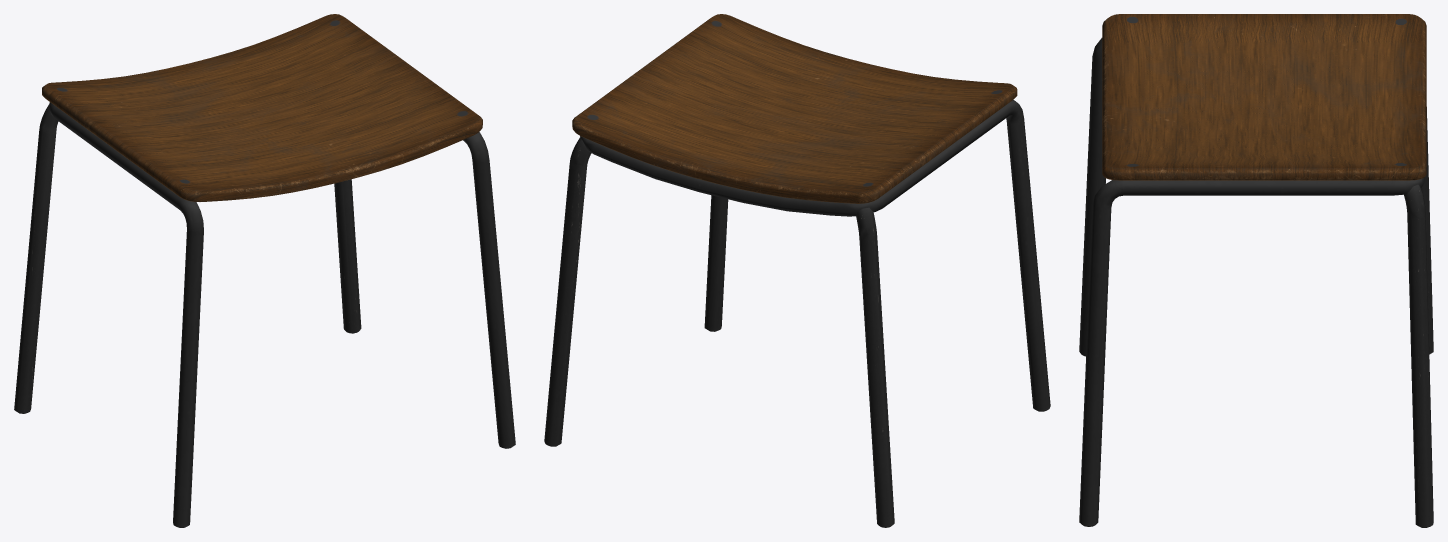
Rendered from old_stool.obj.
The picture shows the model from 3 angles, left to right: view 1: azimuth 30°, elevation 25°; view 2: azimuth 150°, elevation 25°; view 3: azimuth 270°, elevation 25°; orthographic projection. The views are drawn at different scales.
Visible parts, largest first — view 1: old_stool; view 2: old_stool; view 3: old_stool.
Boxes of the visible parts, x1=… form: old_stool: x1=14, y1=14, x2=515, y2=527; old_stool: x1=544, y1=14, x2=1050, y2=527; old_stool: x1=1079, y1=14, x2=1433, y2=527.
Bounding box in the file's own units: 64.4 × 58.1 × 53.54.
